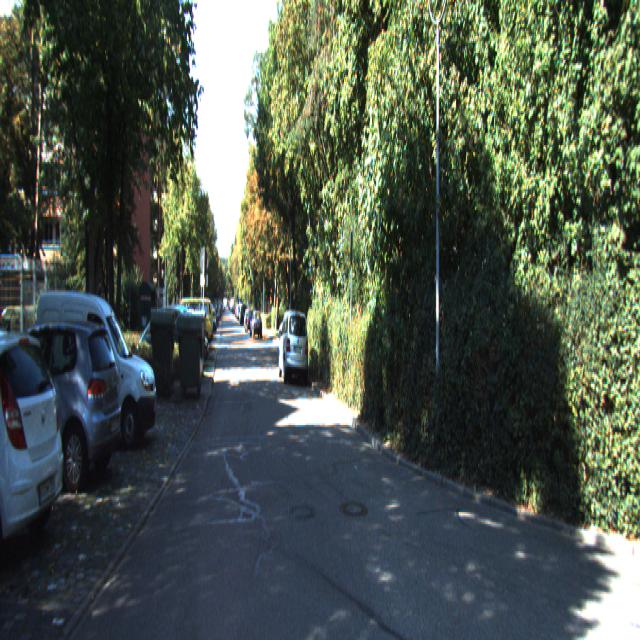Car: (0, 317, 123, 499), (34, 289, 158, 457), (0, 314, 72, 570), (278, 310, 309, 388), (176, 298, 214, 351), (250, 311, 263, 338)
